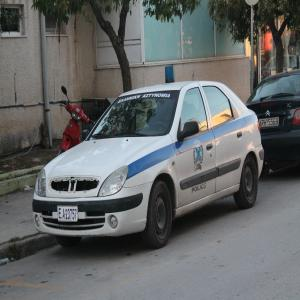Vehicle-registration-plate: (59, 207, 79, 223), (260, 117, 280, 129)
